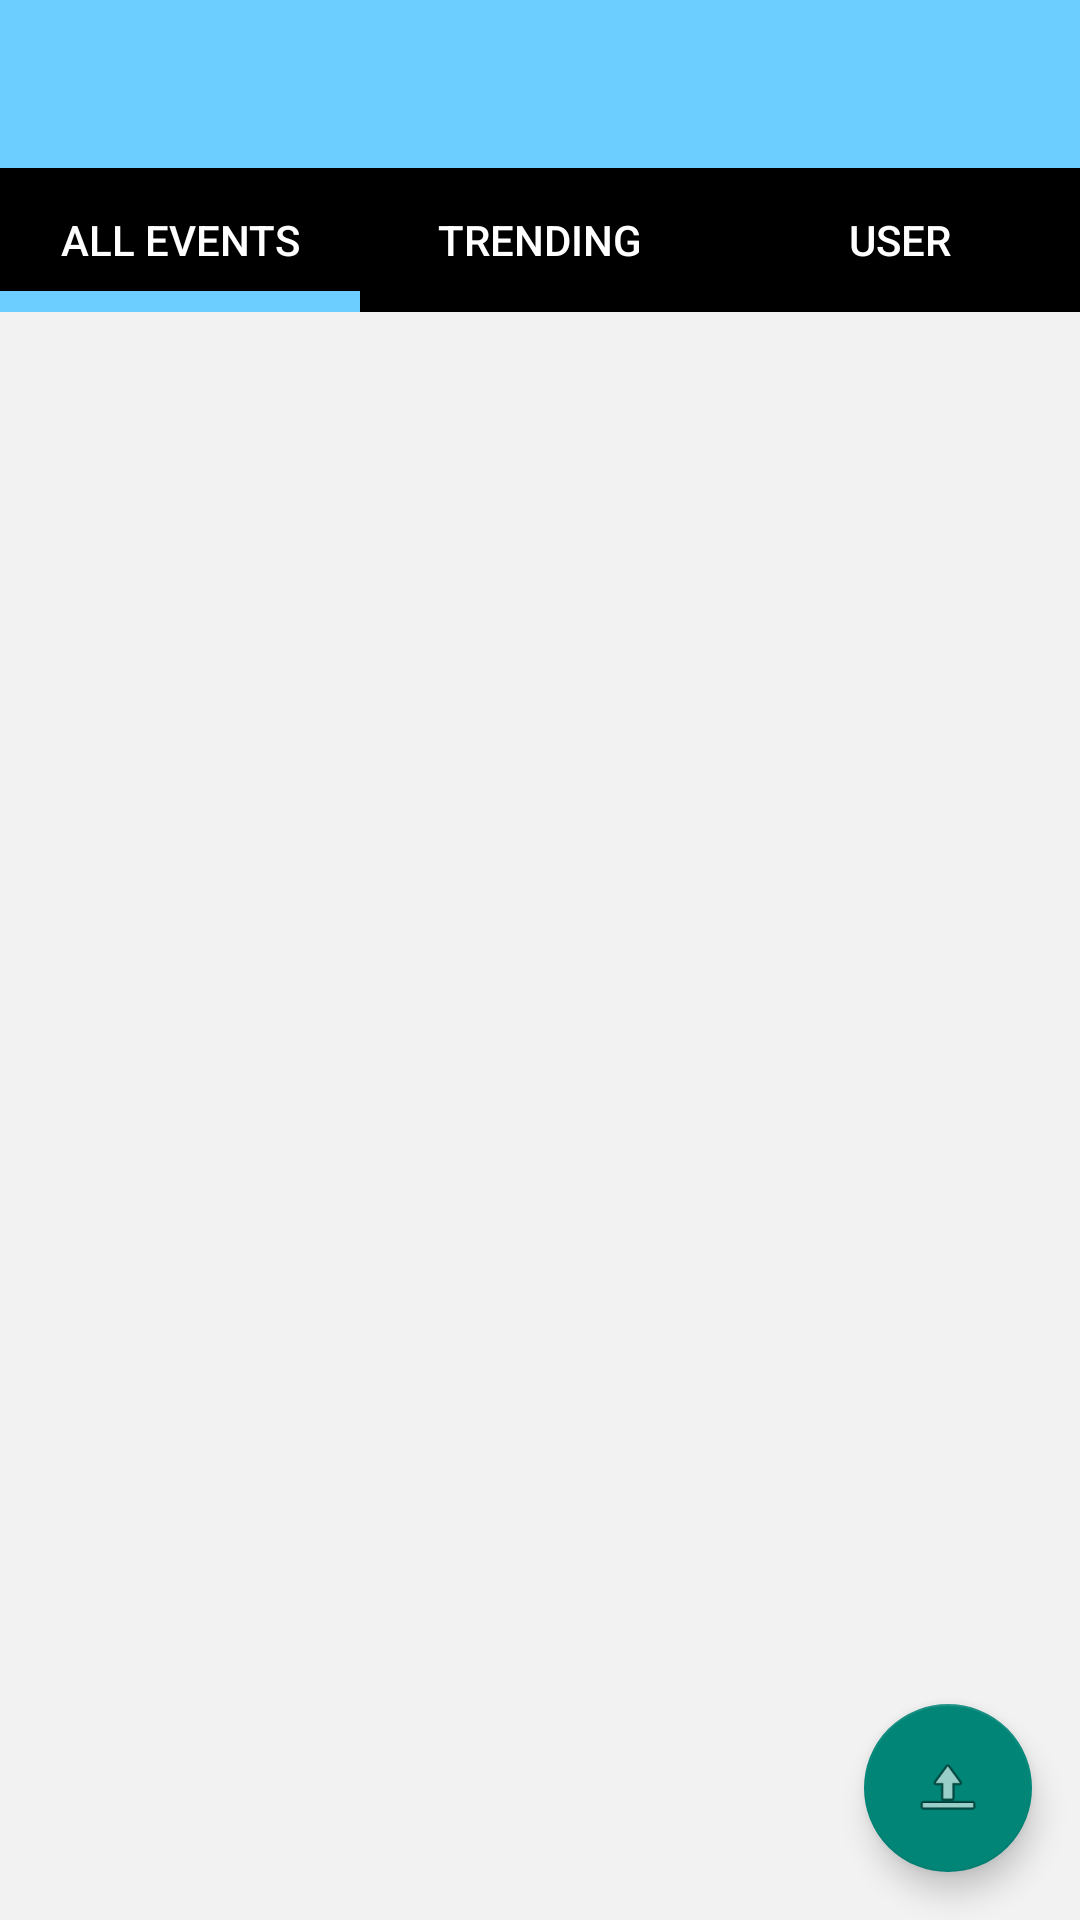

Icon bounding boxes for this 1080*1920 phone screenshot, format (x1, y1, x2, y2):
upload: (864, 1704, 1032, 1872)
